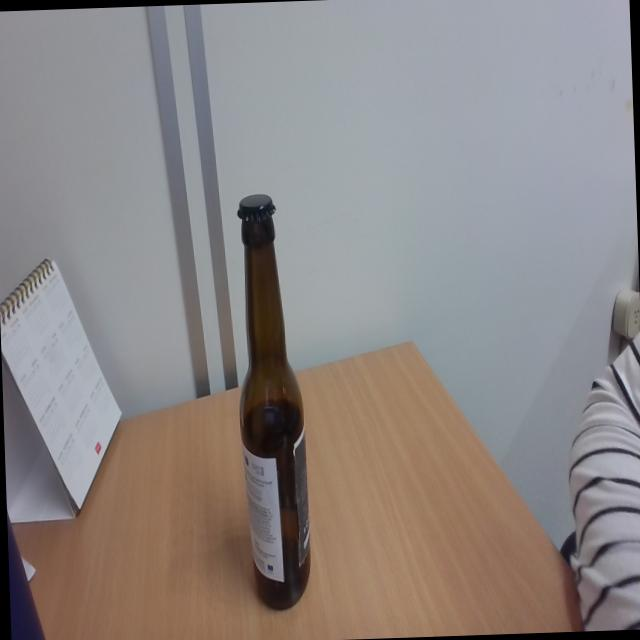Bottle: (232, 190, 312, 614)
Cap: (232, 189, 280, 227)
Label: (241, 434, 310, 580)
